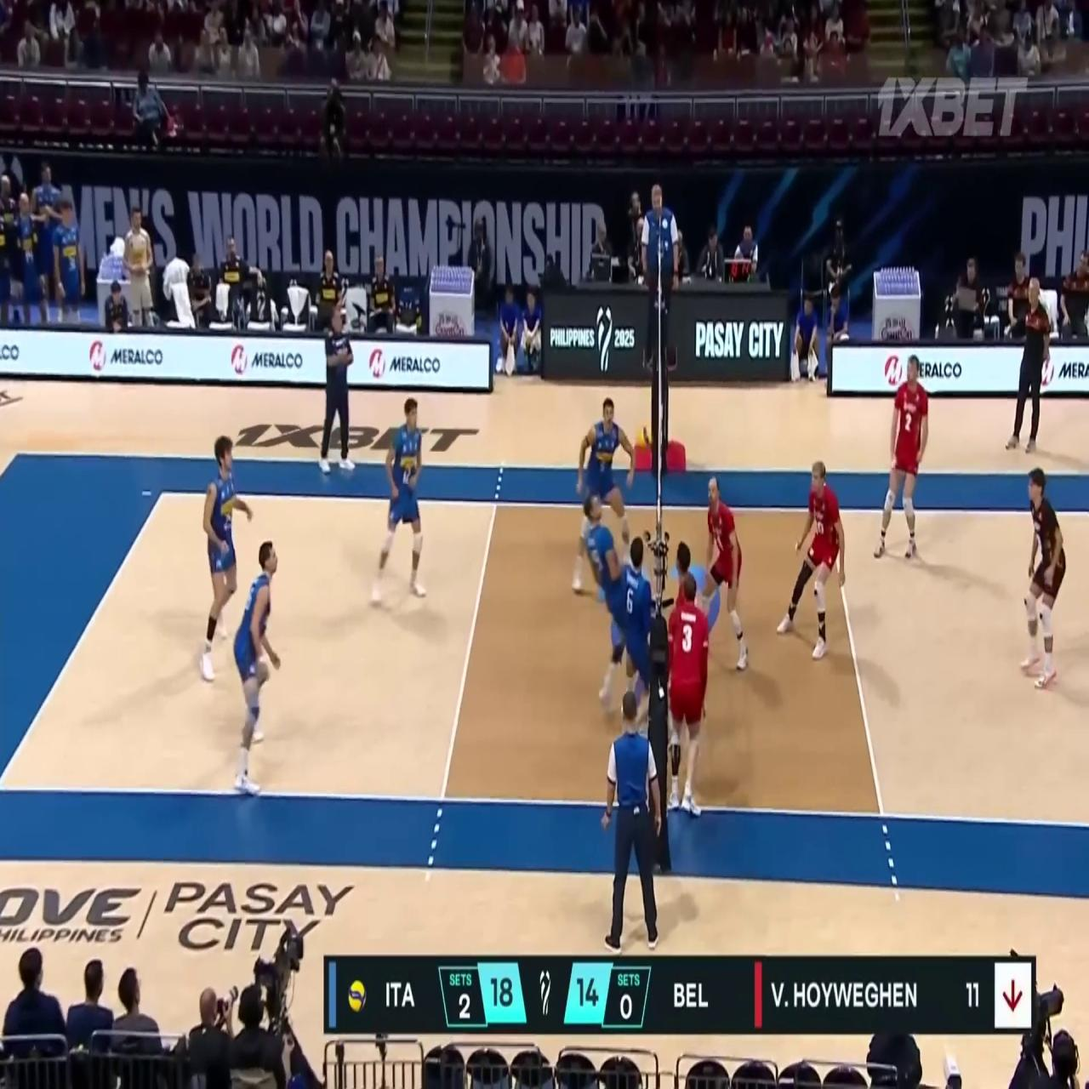ball: (637, 426, 649, 446)
